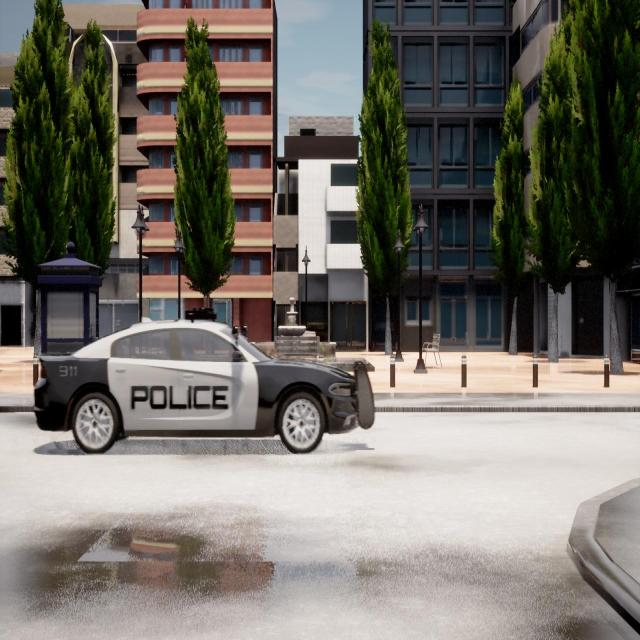Vehicle: (34, 320, 374, 453)
